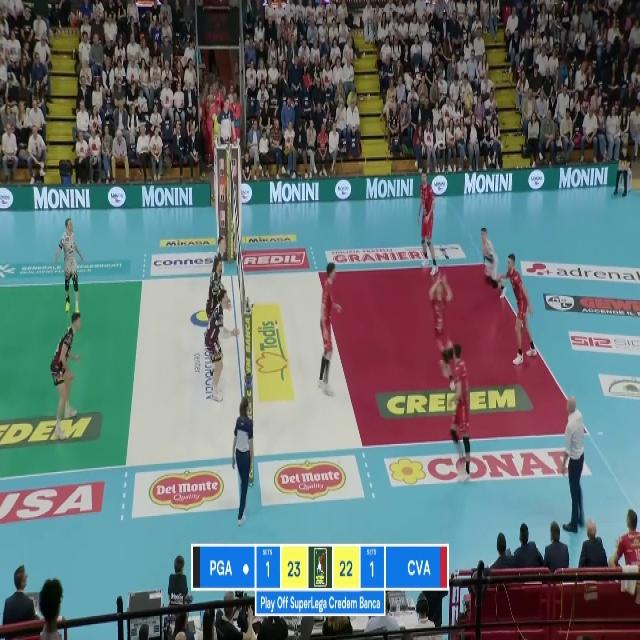volleyball court: (0, 263, 588, 477)
